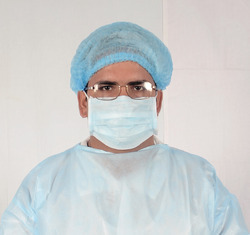with_mask_and_cap: (76, 23, 165, 151)
